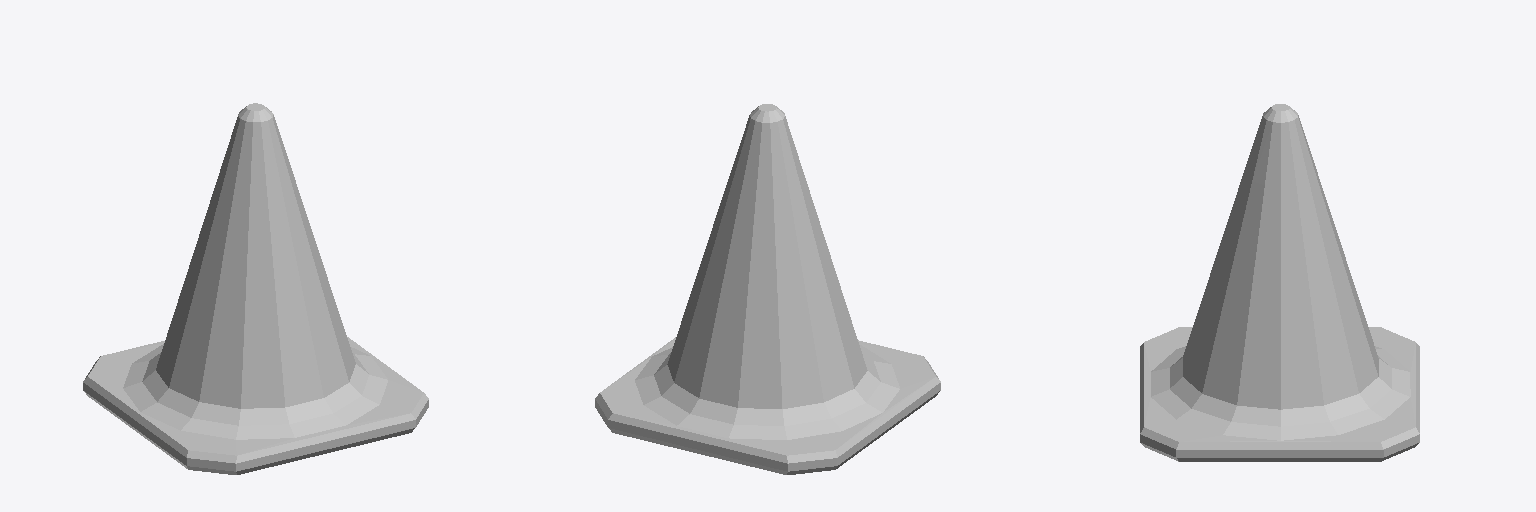
Rendered from traffic_cone.obj.
The picture shows the model from 3 angles: view 1: azimuth 30°, elevation 25°; view 2: azimuth 150°, elevation 25°; view 3: azimuth 270°, elevation 25°; orthographic projection.
Visible parts, largest first — view 1: cone2; view 2: cone2; view 3: cone2.
Part boxes in pixels (bbox=[...]): cone2: bbox=[83, 103, 428, 474]; cone2: bbox=[595, 104, 940, 474]; cone2: bbox=[1140, 104, 1419, 461].
Bounding box in the file's own units: 1.5 × 1.75 × 1.5.